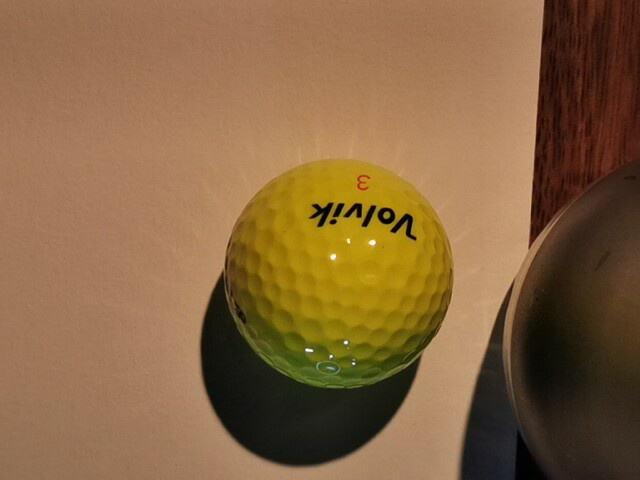Ball: (224, 158, 454, 389)
Volvik: (309, 202, 417, 241)
